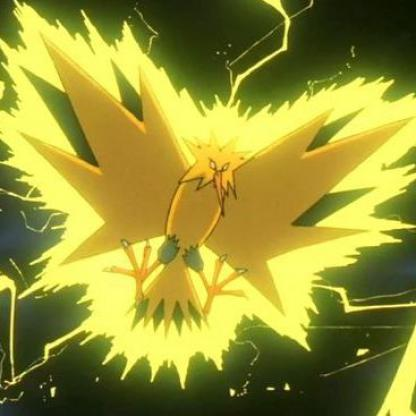Zapdos: (1, 17, 416, 350)
